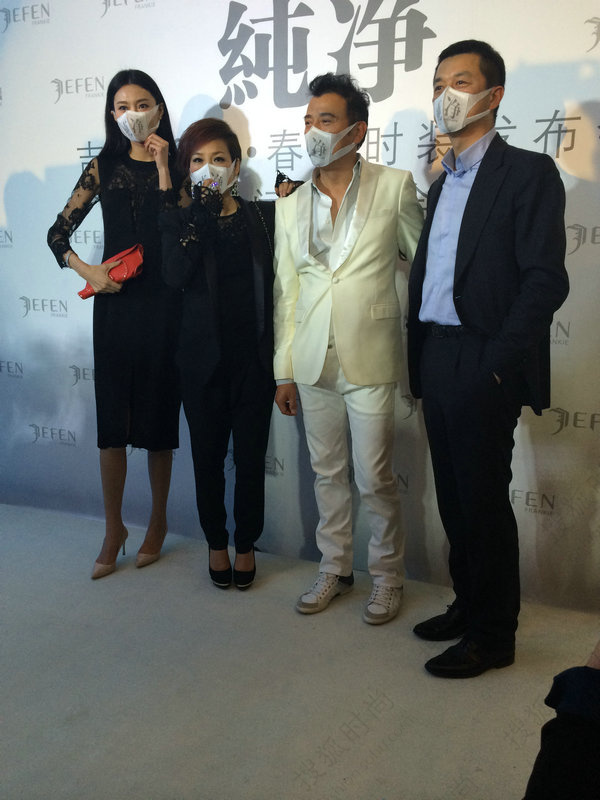face_mask: (433, 54, 485, 137), (302, 94, 349, 169), (187, 138, 232, 204), (112, 83, 156, 146)
